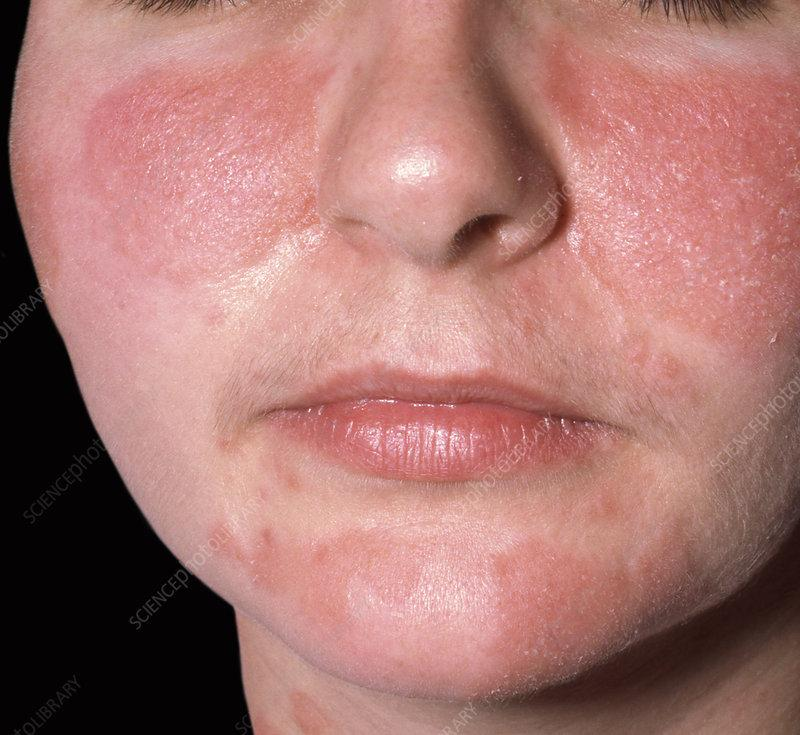Skin-Redness: (530, 22, 800, 362), (74, 52, 352, 295), (484, 521, 721, 704), (202, 510, 421, 625)
